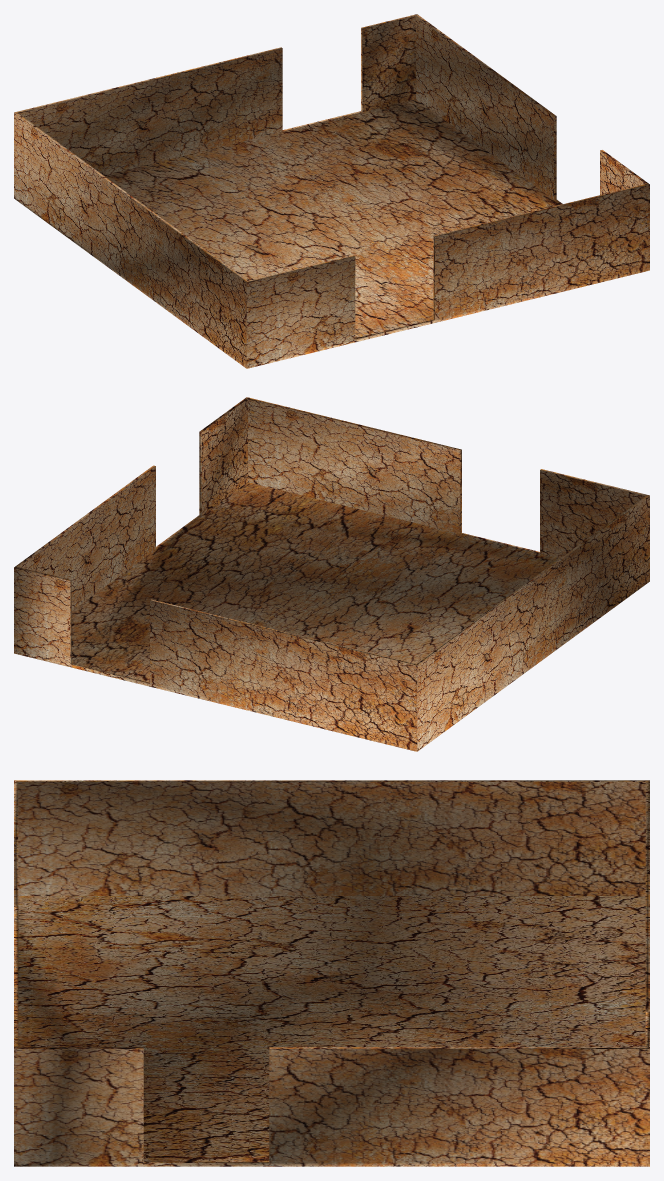
Rendered from Nodo3.obj.
3 renders of one model, top to bottom at view 1: azimuth 30°, elevation 25°; view 2: azimuth 150°, elevation 25°; view 3: azimuth 270°, elevation 25°, orthographic. The views are drawn at different scales.
Visible parts, largest first — view 1: Nodo034; view 2: Nodo034; view 3: Nodo034.
Part boxes in pixels (<box>): Nodo034: <box>14,14,649,368</box>; Nodo034: <box>14,397,649,751</box>; Nodo034: <box>14,780,649,1166</box>.
Size of the model in its own units: 598 by 122 by 598.
1 material, 1 textured.
